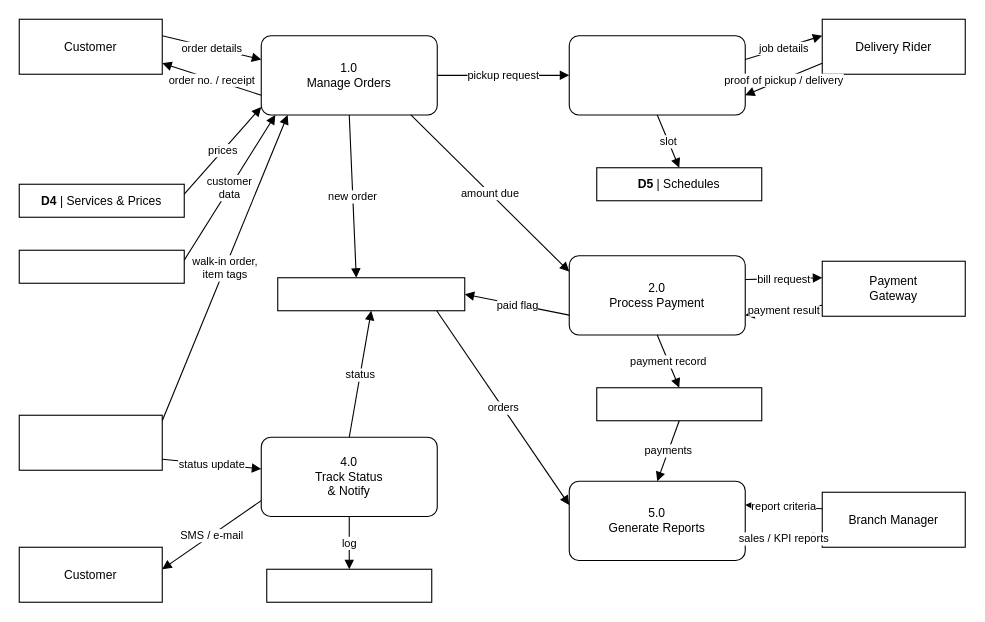
The diagram is 985 pixels wide and 622 high, and some of its shapes have lost their labels. The box of each missing label's shape, as (x1, y1, x2, y2) in pixels:
3.0 Schedule Pickup & Delivery: (568, 35, 745, 115)
Counter Staff: (18, 414, 162, 470)
D1 | Customers: (18, 249, 184, 283)
D2 | Orders & Items: (277, 277, 465, 311)
D3 | Payments: (596, 387, 762, 421)
D6 | Notification Log: (266, 568, 432, 602)
